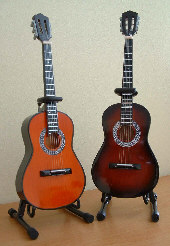guitar: (14, 12, 87, 211), (91, 10, 160, 198)
